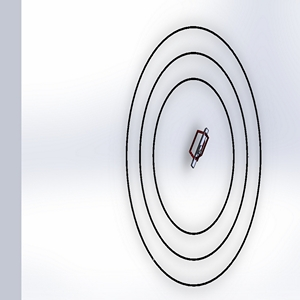circle: (120, 22, 273, 293)
submarine: (176, 124, 218, 173)
